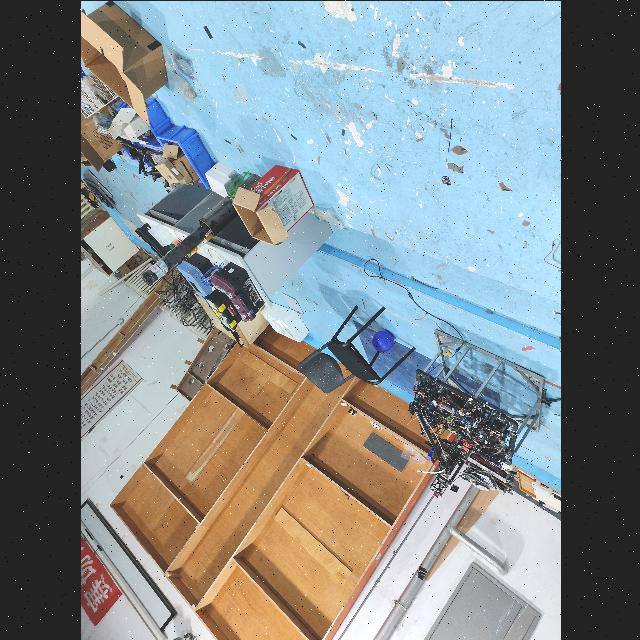B: (371, 329, 393, 351)
